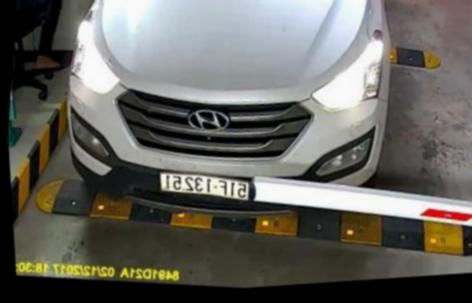License_Plate: (154, 166, 253, 209)
